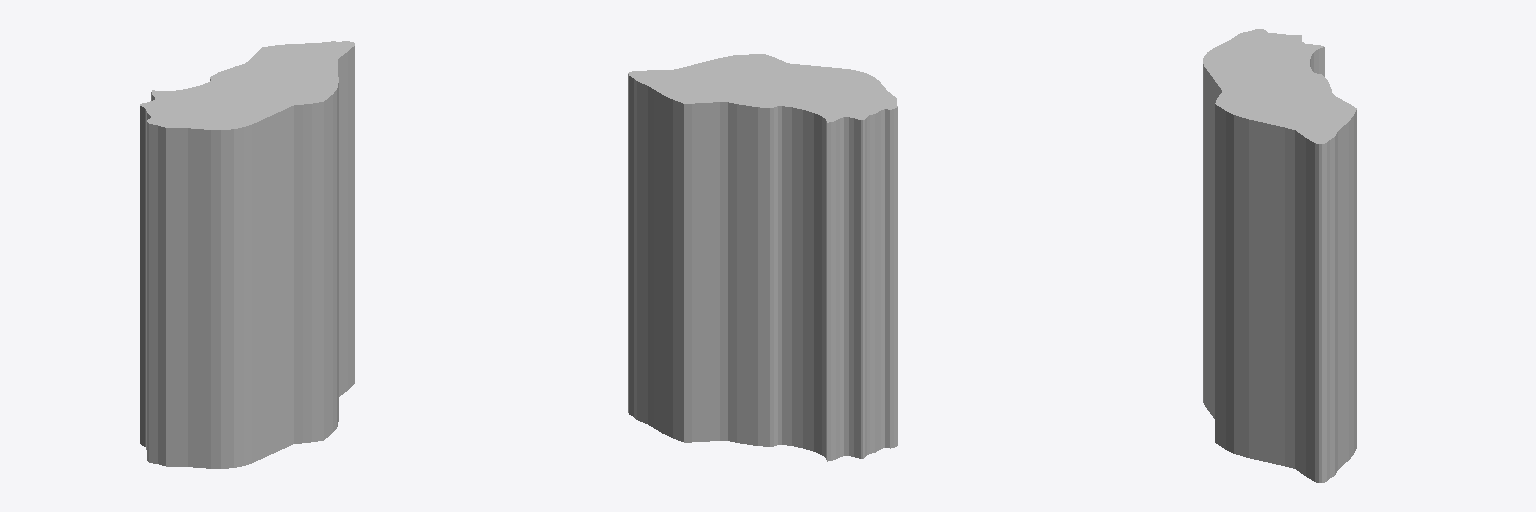
The picture shows the model from 3 angles: view 1: azimuth 30°, elevation 25°; view 2: azimuth 150°, elevation 25°; view 3: azimuth 270°, elevation 25°; orthographic projection.
Parts seen in each view (by area): view 1: HU.002_CUCurve.1817; view 2: HU.002_CUCurve.1817; view 3: HU.002_CUCurve.1817.
Boxes of the visible parts, <box> form: HU.002_CUCurve.1817: <box>140,41,354,468</box>; HU.002_CUCurve.1817: <box>628,54,897,461</box>; HU.002_CUCurve.1817: <box>1203,29,1356,482</box>.
Bounding box in the file's own units: 0.0366 × 0.05 × 0.0206.